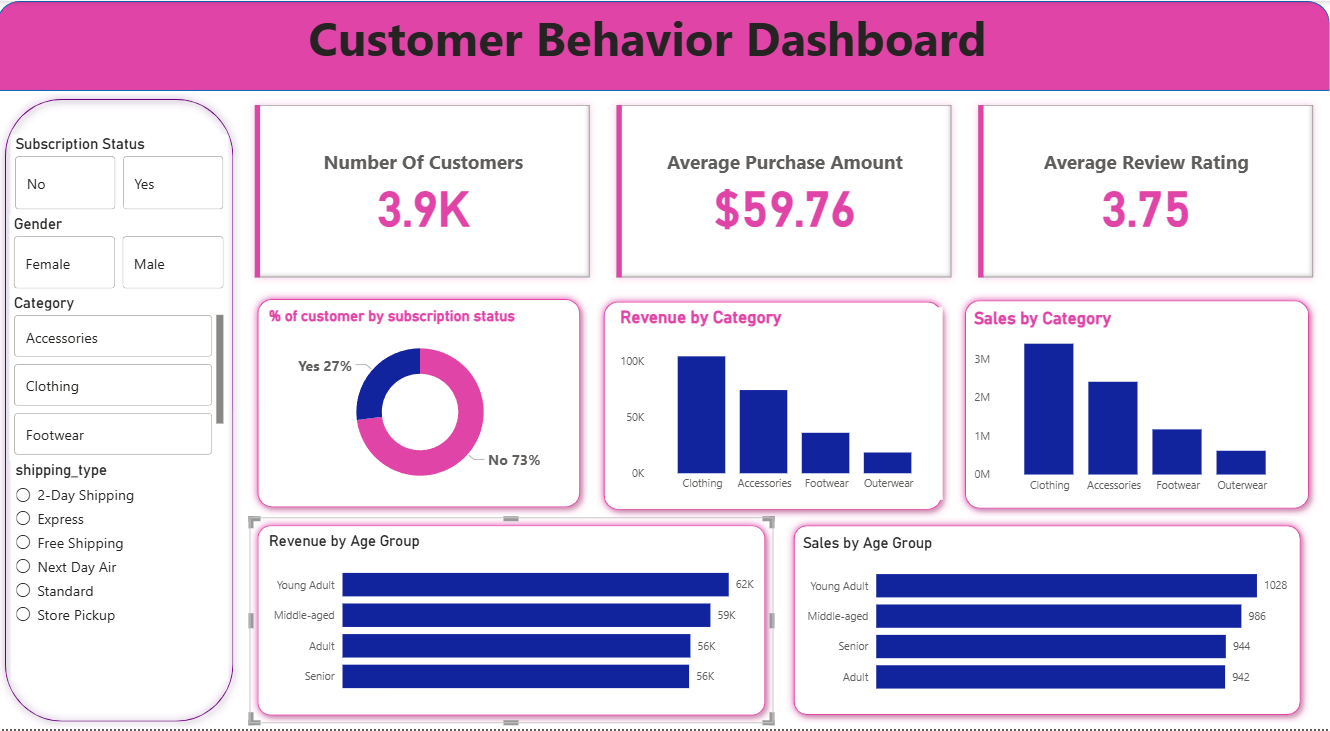

The dashboard page shown, as its layout file describes it:
{"tool":"powerbi","page":{"name":"Page 1","canvas":[1500,820],"ordinal":0},"visuals":[{"type":"shape","box":[284.2,581.1,589.6,232.2],"z":0},{"type":"cardVisual","fields":{"Data":["public customer.Number Of Customers","public customer.Average Purchase Amount","public customer.Average Review Rating"]},"box":[275,101.3,1225.3,226.7],"z":1000},{"type":"shape","box":[0,0,1500.3,101.3],"z":2000},{"type":"textbox","box":[0,0,1464.9,101.3],"z":3000},{"type":"shape","box":[284.6,326.4,381.1,252.5],"z":4000},{"type":"donutChart","title":"% of customer by subscription status","fields":{"Category":["public customer.subscription_status"],"Y":["CountNonNull(public customer.customer_id)"]},"box":[300.7,344.1,350.6,217.1],"z":5000},{"type":"shape","box":[673.8,329.7,398.8,252.5],"z":6000},{"type":"shape","box":[1080.6,328,405.2,252.5],"z":7000},{"type":"clusteredColumnChart","title":"Revenue by Category","fields":{"Y":["Sum(public customer.purchase_amount)"],"Category":["public customer.category"]},"box":[696.3,344.1,368.2,217.1],"z":8000},{"type":"clusteredColumnChart","title":"Sales by Category","fields":{"Category":["public customer.category"],"Y":["Sum(public customer.customer_id)"]},"box":[1095.1,345.7,369.9,217.1],"z":9000},{"type":"shape","box":[0,101.3,275,718.8],"z":10000},{"type":"advancedSlicerVisual","fields":{"Values":["public customer.subscription_status"]},"box":[16.1,151.2,244.4,90.1],"z":11000},{"type":"advancedSlicerVisual","fields":{"Values":["public customer.gender"]},"box":[14.5,241.2,246,88.4],"z":12000},{"type":"clusteredBarChart","title":"Revenue by Age Group","fields":{"Y":["Sum(public customer.purchase_amount)"],"Category":["public customer.age_group"]},"box":[301.1,598,557.2,195.6],"z":13000},{"type":"advancedSlicerVisual","fields":{"Values":["public customer.category"]},"box":[16.7,330.1,246.5,188],"z":14000},{"type":"listSlicer","fields":{"Values":["public customer.shipping_type"]},"box":[16.7,551.5,243.7,217.3],"z":15000},{"type":"shape","box":[887.7,581.3,588.6,231.6],"z":16000},{"type":"clusteredBarChart","title":"Sales by Age Group","fields":{"Y":["CountNonNull(public customer.customer_id)"],"Category":["public customer.age_group"]},"box":[902.1,599.8,558,194.6],"z":17000}]}

Visuals, with their boxes in screenshot pixels (x1, y1, x2, y2), scaled from the page's 1500x820 canvas onto the 1330x731 screenshot:
shape: 252,518,775,725
cardVisual - public customer.Number Of Customers x public customer.Average Purchase Amount: 244,90,1329,292
shape: 0,0,1329,90
textbox: 0,0,1299,90
shape: 252,291,590,516
"% of customer by subscription status" donutChart: 267,307,577,500
shape: 597,294,951,519
shape: 958,292,1317,517
"Revenue by Category" clusteredColumnChart: 617,307,944,500
"Sales by Category" clusteredColumnChart: 971,308,1299,502
shape: 0,90,244,730
advancedSlicerVisual - public customer.subscription_status: 14,135,231,215
advancedSlicerVisual - public customer.gender: 13,215,231,294
"Revenue by Age Group" clusteredBarChart: 267,533,761,707
advancedSlicerVisual - public customer.category: 15,294,233,462
listSlicer - public customer.shipping_type: 15,492,231,685
shape: 787,518,1309,725
"Sales by Age Group" clusteredBarChart: 800,535,1295,708
